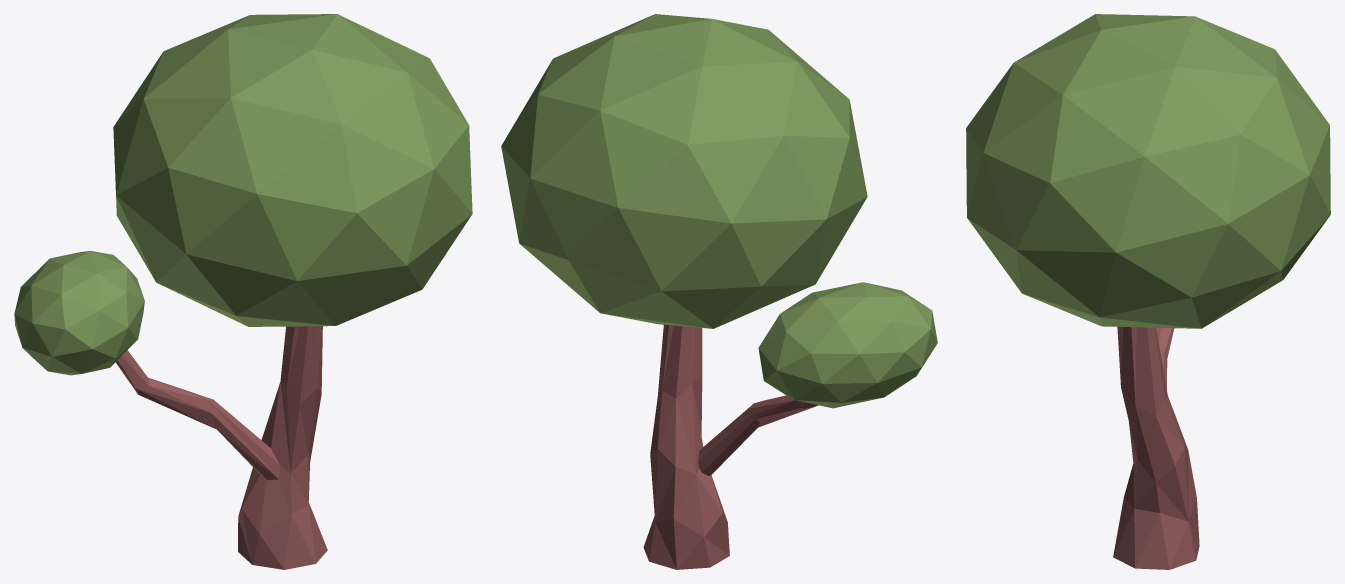
The model's file is Poplar Tree_1.fbx.
3 views of the same model, side by side, from view 1: azimuth 30°, elevation 25°; view 2: azimuth 150°, elevation 25°; view 3: azimuth 270°, elevation 25° (orthographic).
Parts seen in each view (by area): view 1: Poplar Tree_1; view 2: Poplar Tree_1; view 3: Poplar Tree_1.
Boxes of the visible parts, bbox=[...] form: Poplar Tree_1: bbox=[14, 14, 472, 569]; Poplar Tree_1: bbox=[501, 14, 937, 569]; Poplar Tree_1: bbox=[966, 14, 1330, 569].
Bounding box in the file's own units: 4.08 × 4.87 × 3.08.
